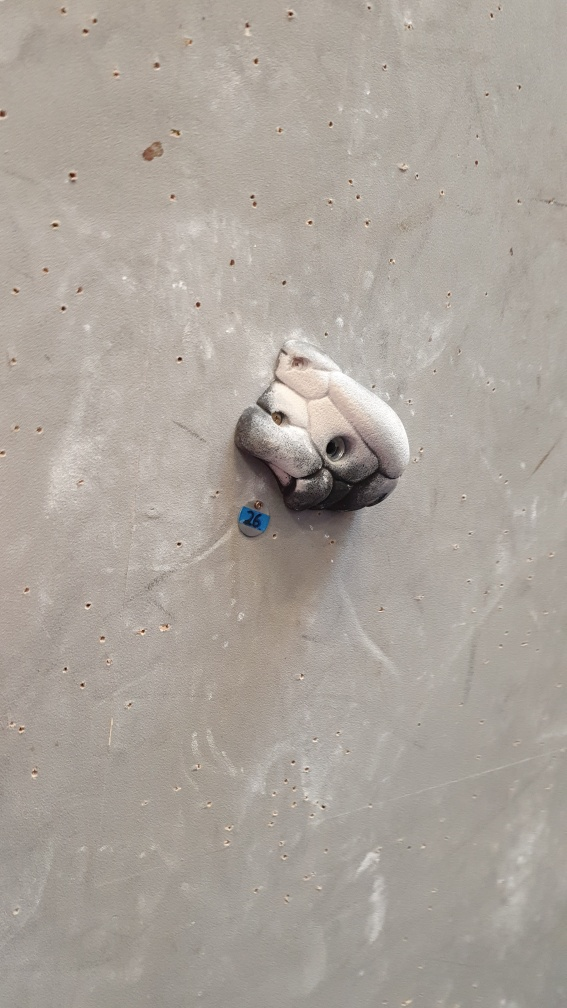Hand Start: (235, 497, 273, 539)
Jug: (231, 339, 414, 516)
